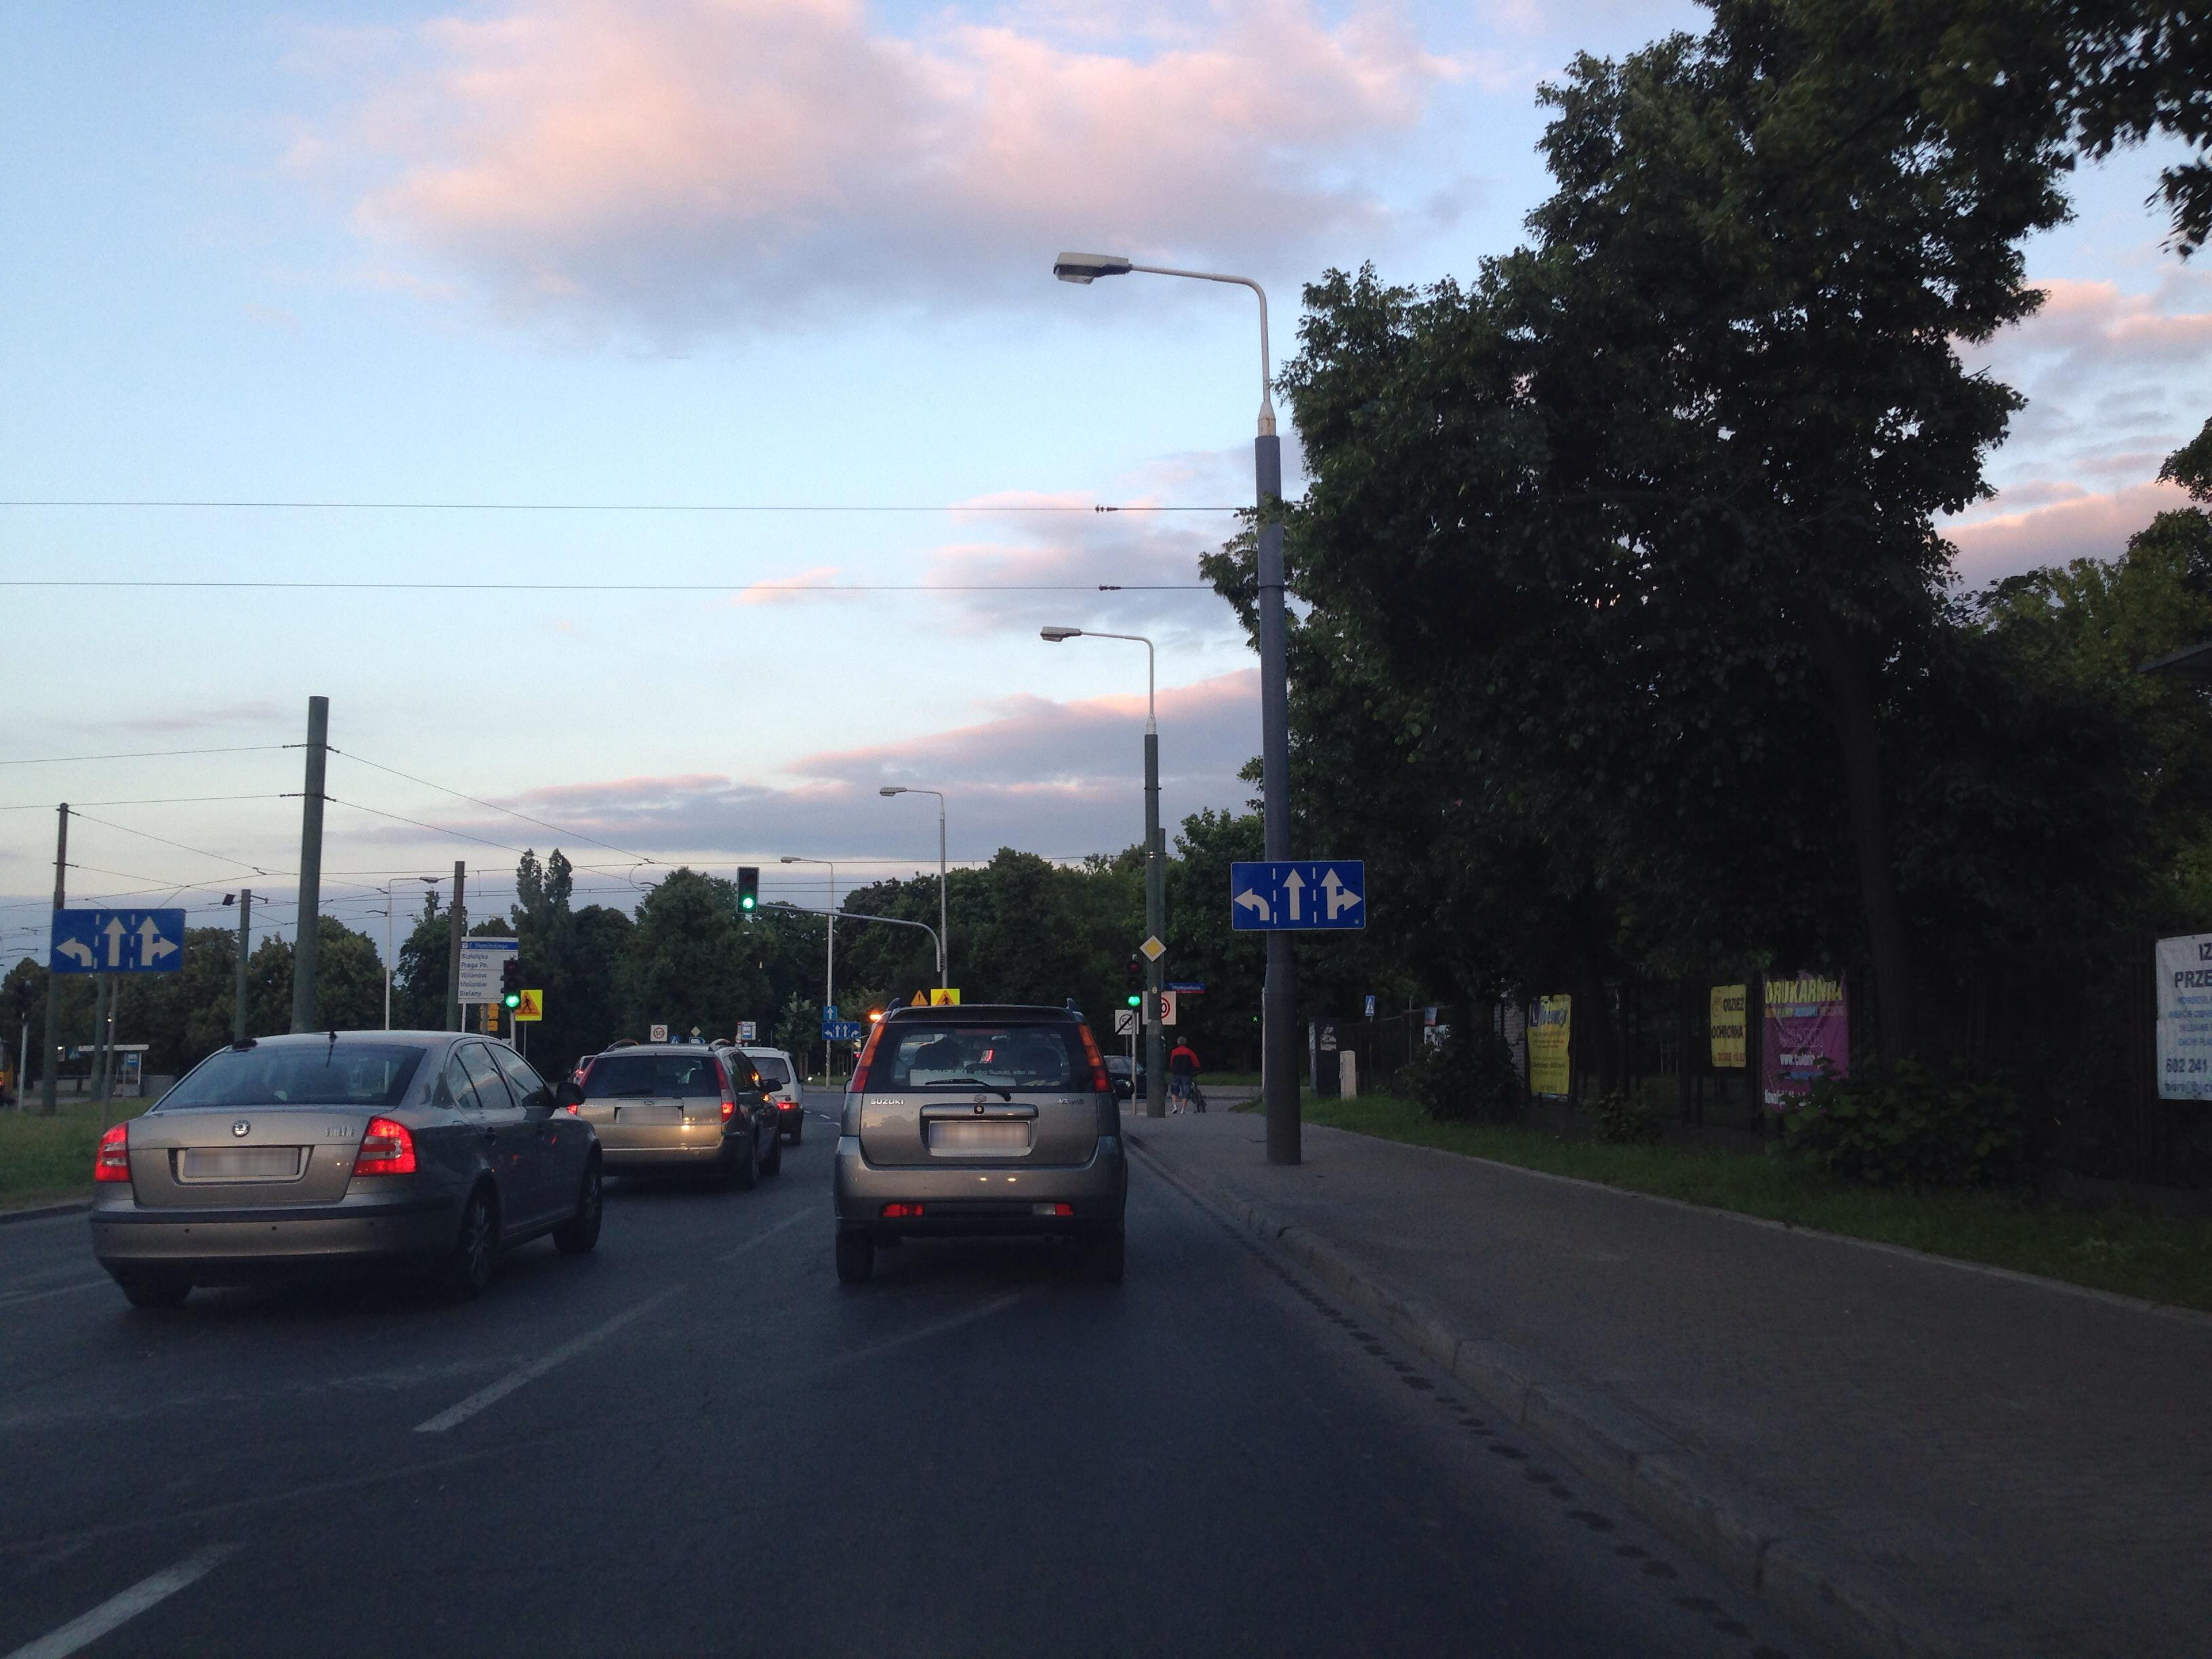vinyl banner: (1757, 957, 1855, 1119), (2139, 917, 2212, 1121), (1498, 960, 1592, 1098), (1714, 971, 1750, 1077)
